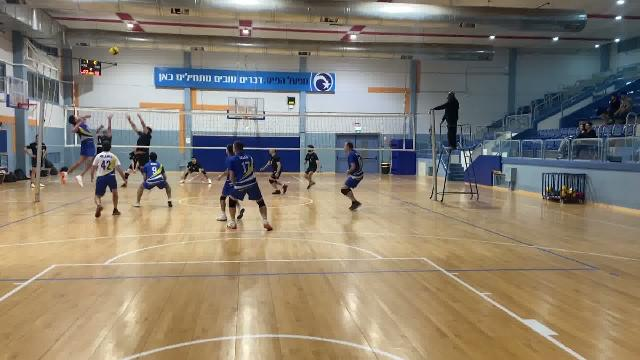ball: (107, 45, 121, 59)
